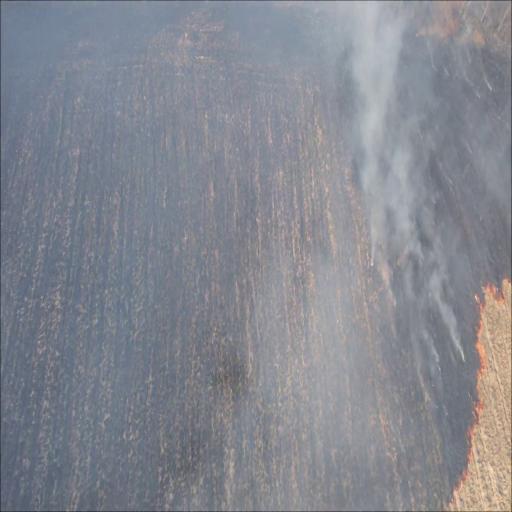smoke: (340, 0, 473, 375)
